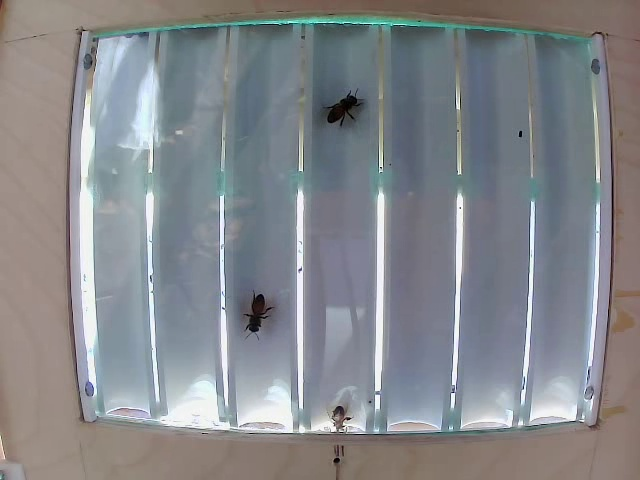bee: (236, 284, 281, 339), (325, 91, 368, 135)
